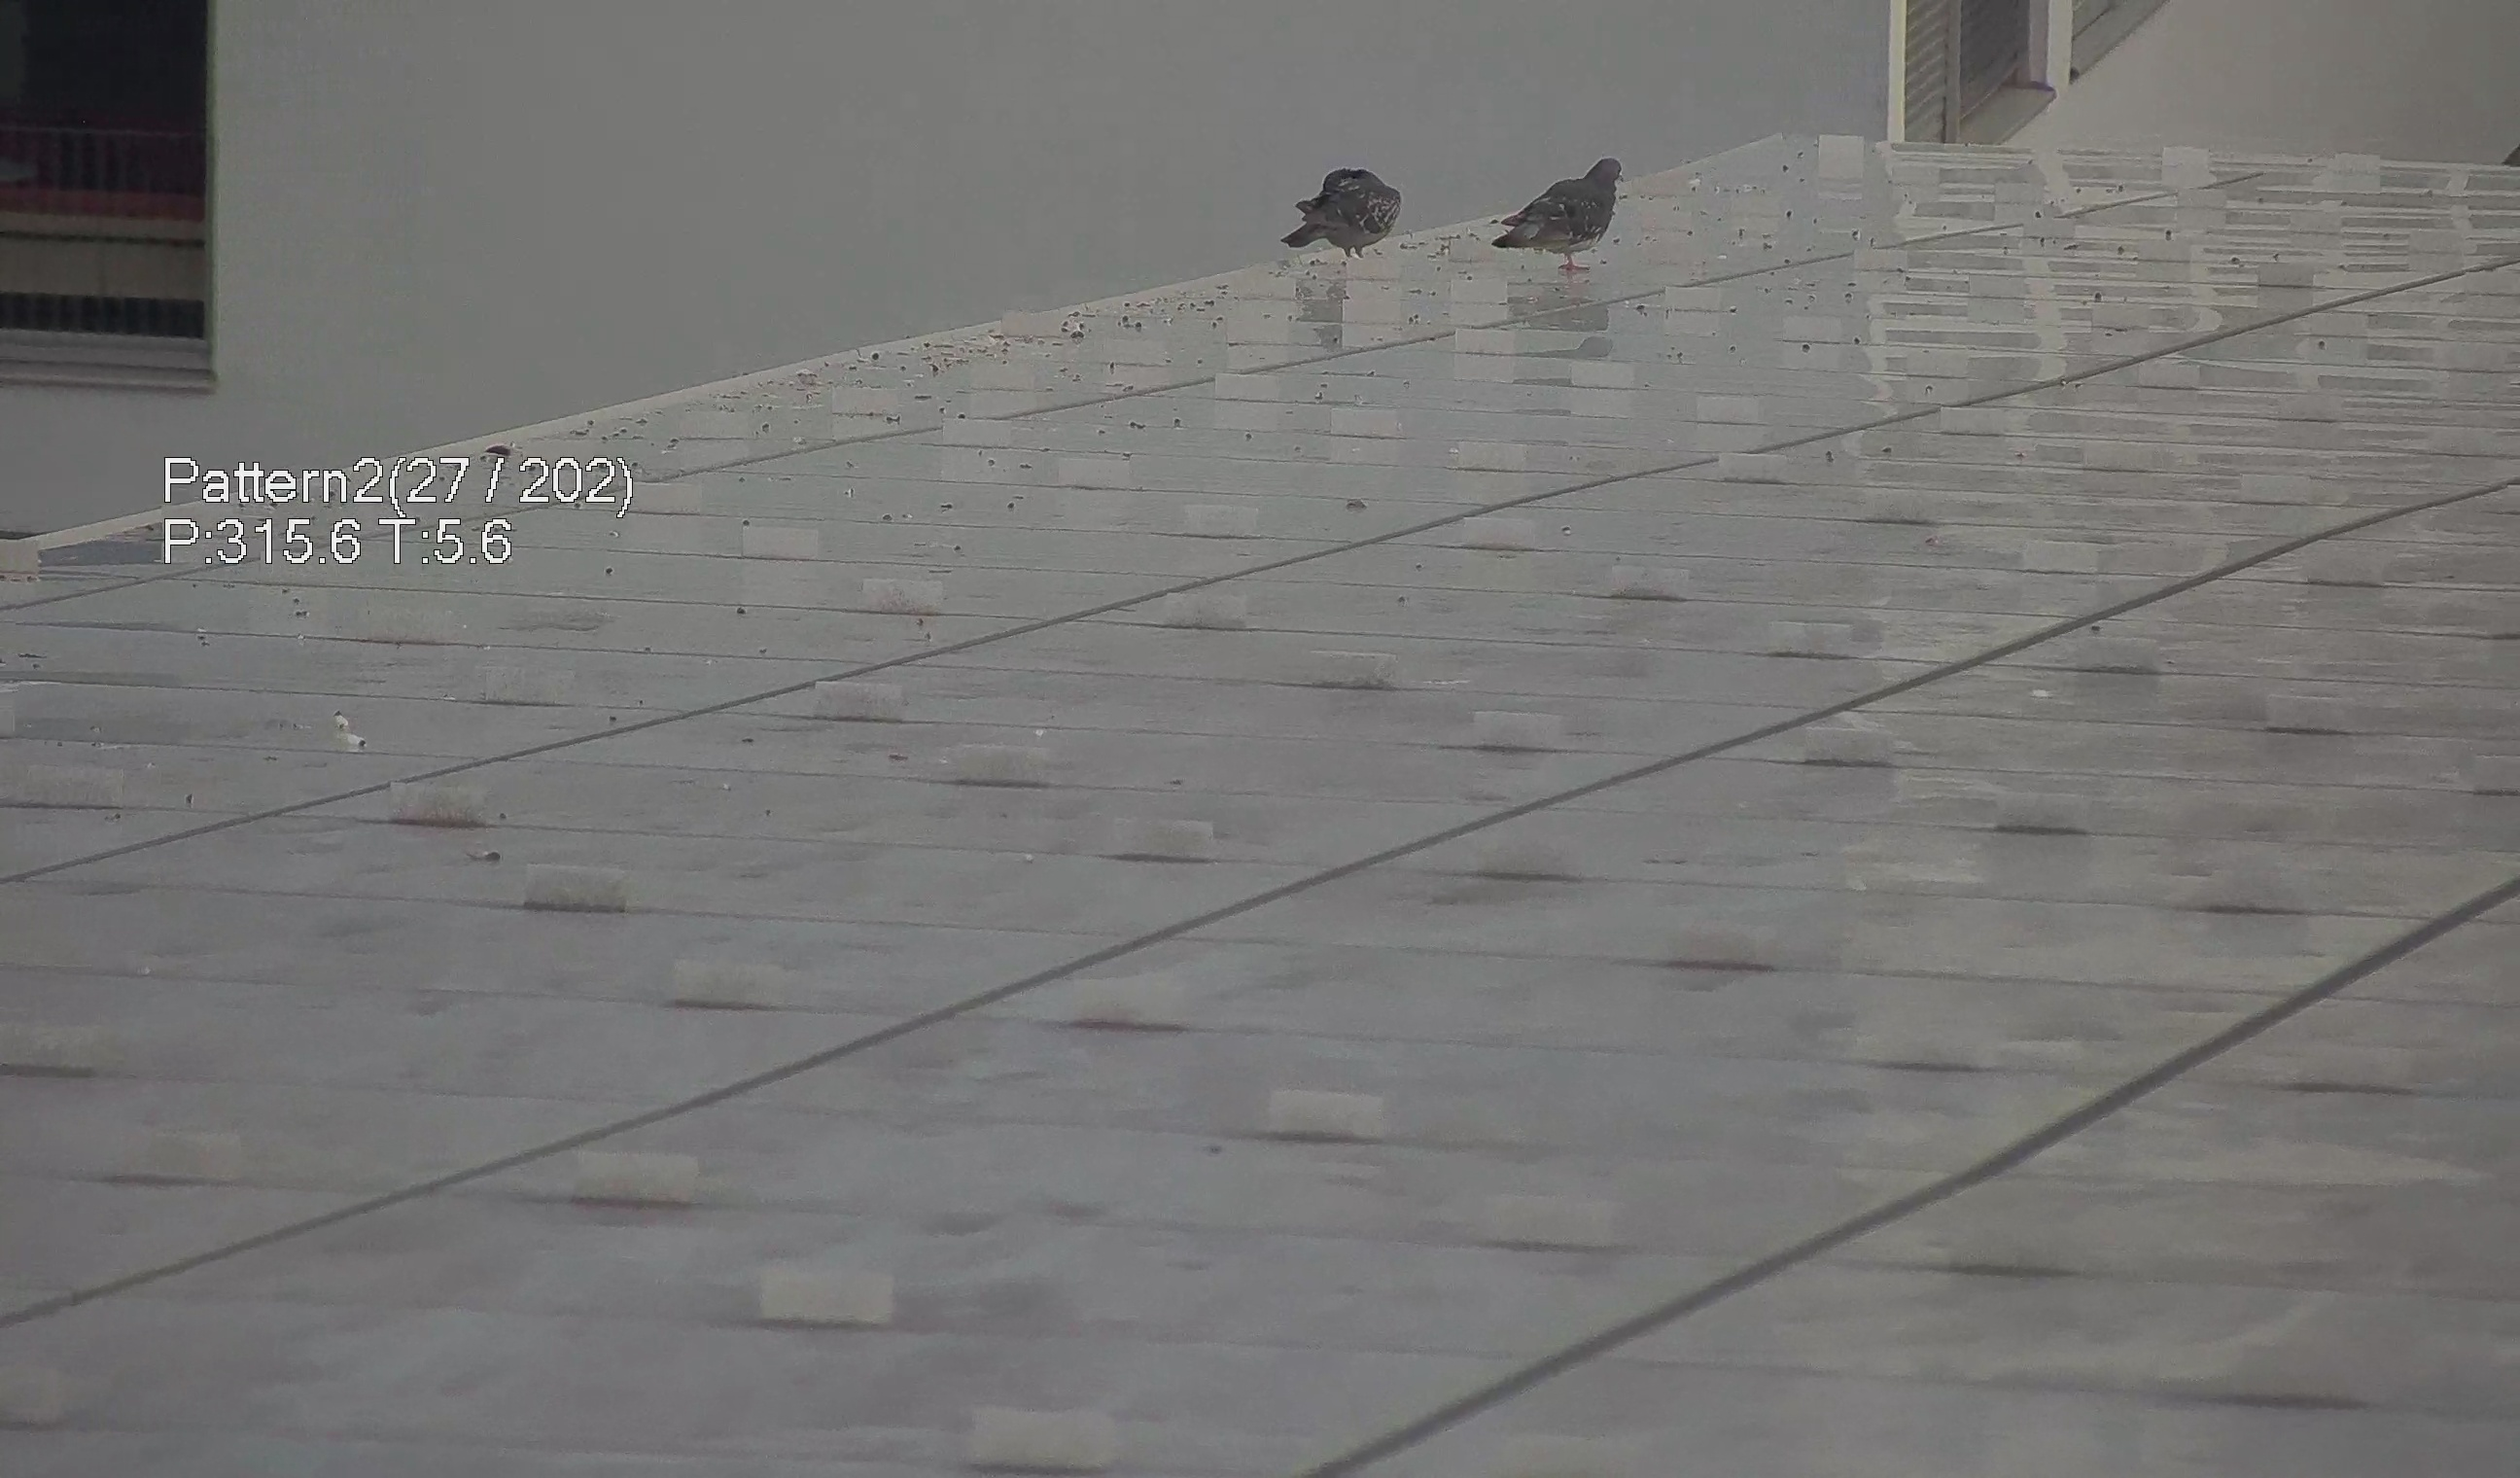Pigeon: (1495, 141, 1642, 264), (1285, 157, 1419, 266)
